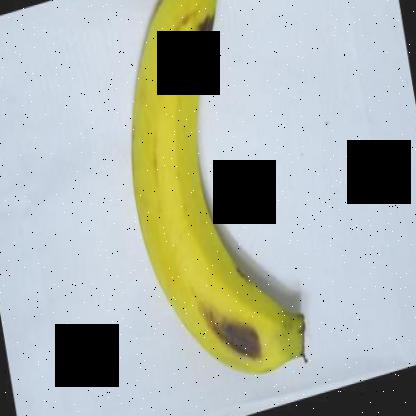freshripe: (118, 1, 324, 392)
